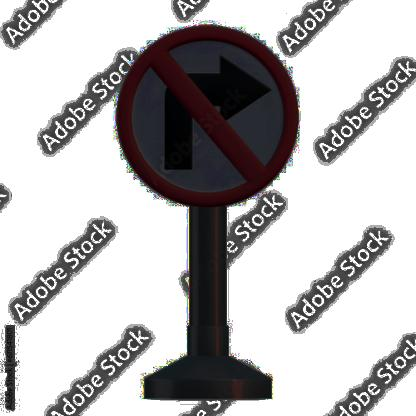No right turn: (117, 22, 304, 222)
